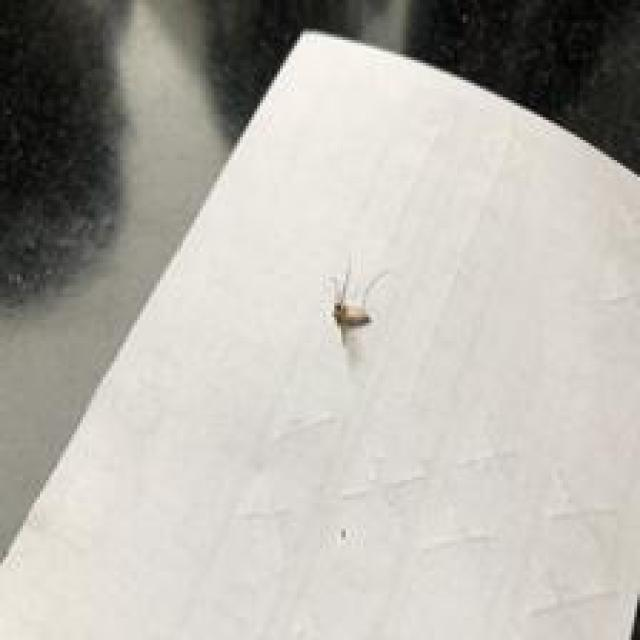Culex: (326, 256, 388, 344)
